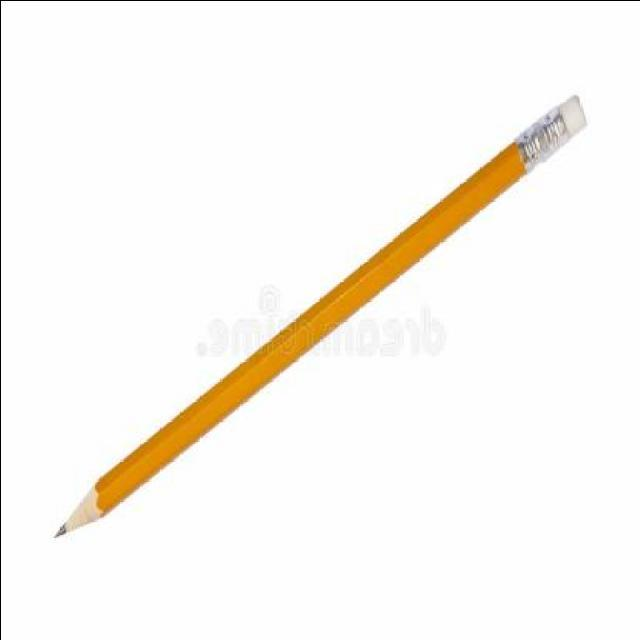Pencil: (47, 445, 135, 547)
